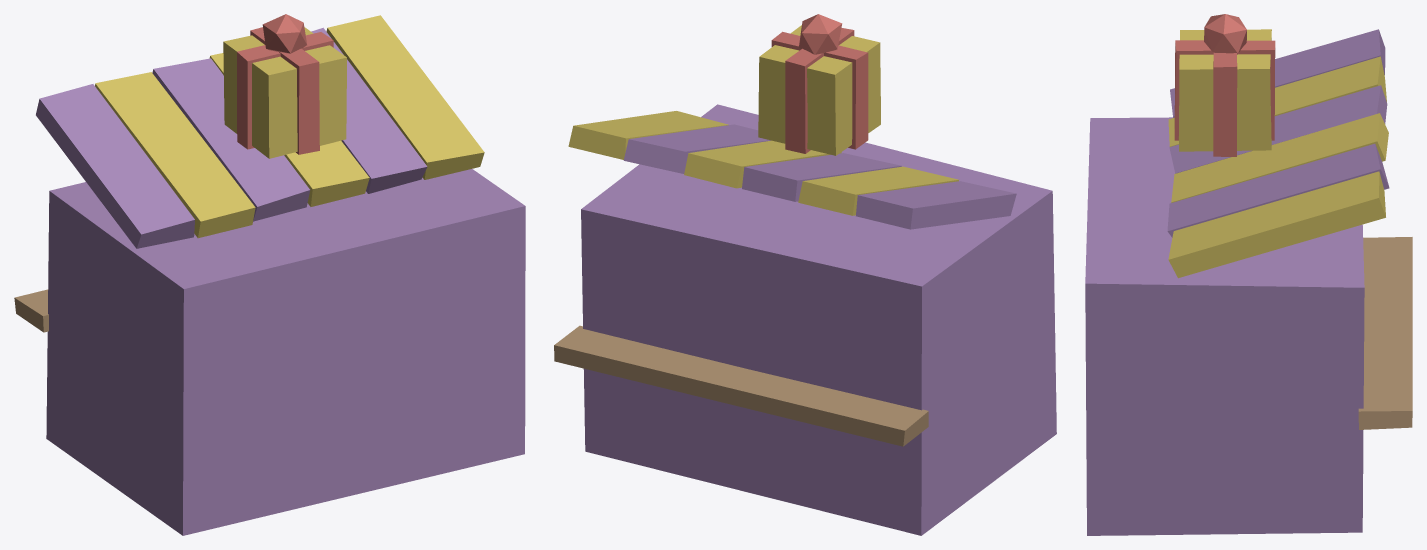
The model's file is souvenirstall.fbx.
3 views of the same model, side by side, from view 1: azimuth 30°, elevation 25°; view 2: azimuth 150°, elevation 25°; view 3: azimuth 270°, elevation 25° (orthographic).
Parts seen in each view (by area): view 1: SouvenirStall; view 2: SouvenirStall; view 3: SouvenirStall.
Part boxes in pixels (x1,y1,x2,y2): SouvenirStall: [14, 14, 525, 535]; SouvenirStall: [554, 14, 1056, 535]; SouvenirStall: [1085, 14, 1412, 535].
Size of the model in its own units: 2.73 by 3.16 by 2.14.
